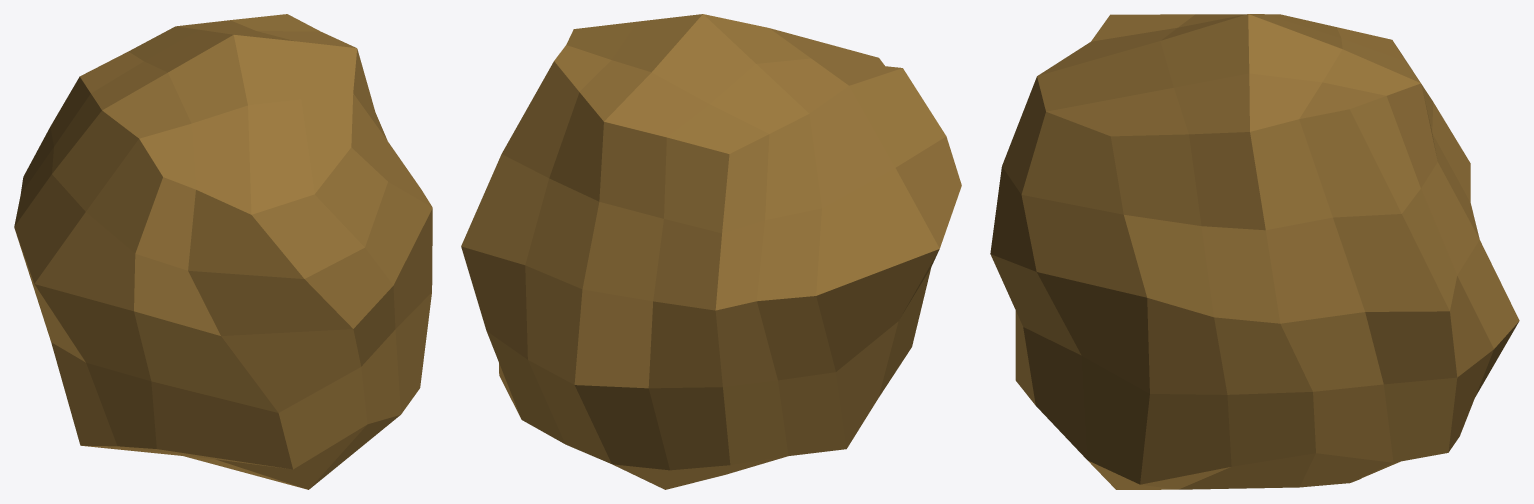
The model's file is WaterRock.fbx.
3 views of the same model, side by side, from view 1: azimuth 30°, elevation 25°; view 2: azimuth 150°, elevation 25°; view 3: azimuth 270°, elevation 25° (orthographic). The views are drawn at different scales.
Visible parts, largest first — view 1: Water Rock 1; view 2: Water Rock 1; view 3: Water Rock 1.
Boxes of the visible parts, x1,y1,x2,y2 form: Water Rock 1: (14, 14, 432, 489); Water Rock 1: (461, 14, 961, 489); Water Rock 1: (990, 14, 1519, 489).
Size of the model in its own units: 2.96 by 3.11 by 3.12.
